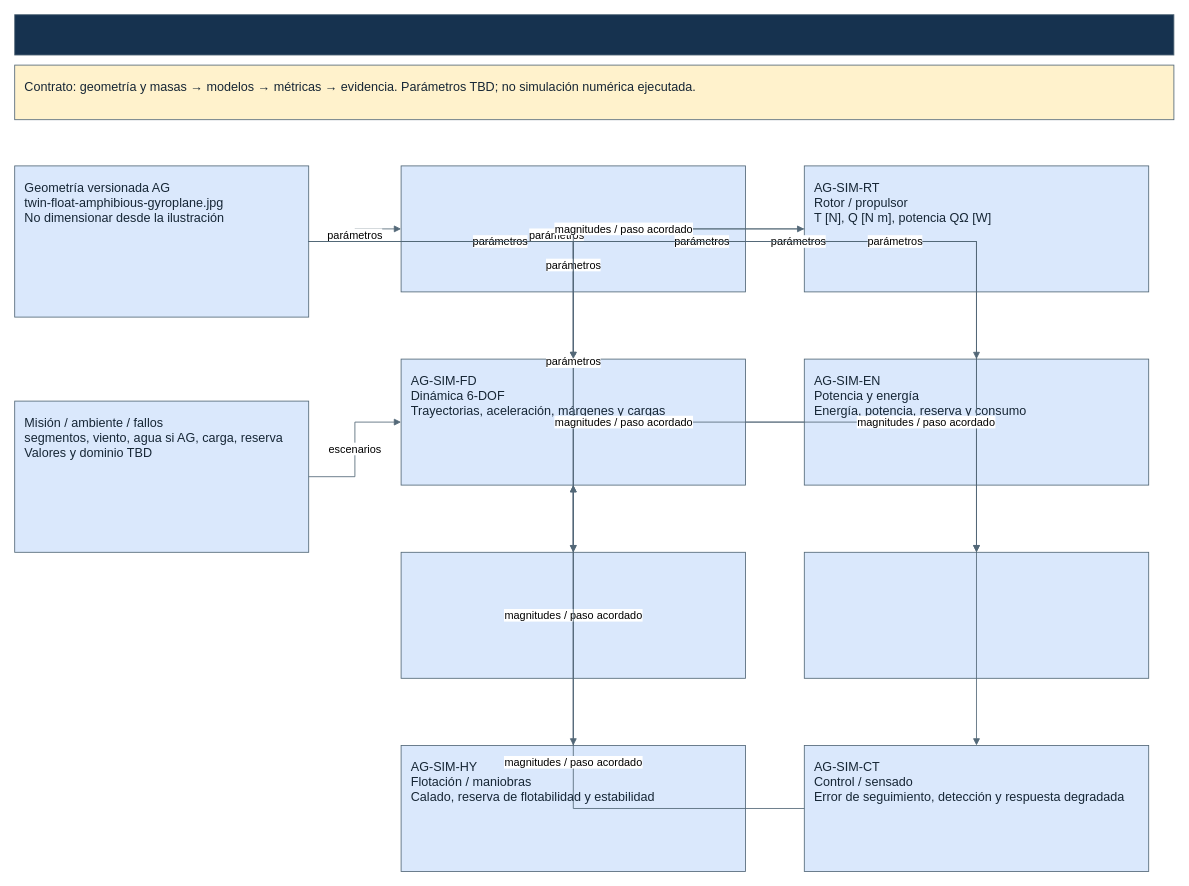
Image size: 1189x886. Some labels were removed from this diagram. The box of each missing label's shape, as (x1, y1, x2, y2) in pixels:
AG-SIM-MB Masa y centrado m [kg], CG [m], J [kg m²]: (400, 165, 746, 292)
AG-SIM-ST Estructura y uniones Desplazamiento [m], tensiones [Pa], reacciones: (803, 551, 1149, 678)
AG-SIM-TH Temperatura equivalente Temperatura y margen al límite: (400, 551, 746, 678)
sim [AG] Modelos científicos acoplados: (14, 14, 1174, 55)
